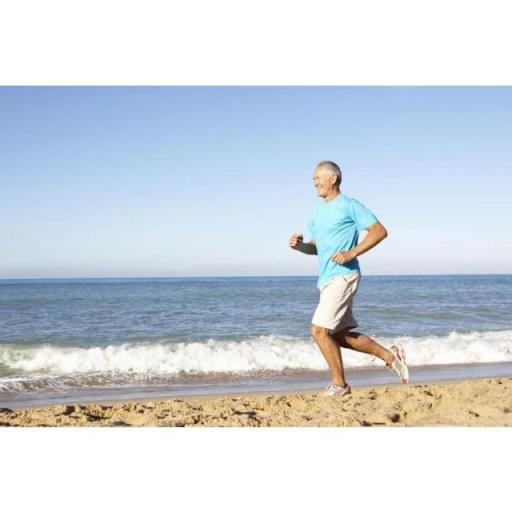Running: (287, 157, 412, 396)
